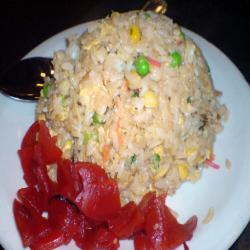rice: (56, 23, 196, 186)
